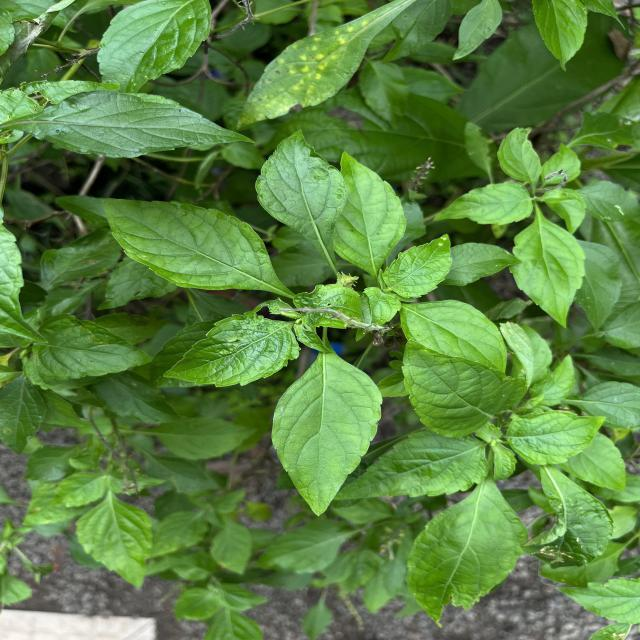Ocimum gratissimum: (235, 0, 418, 132), (268, 336, 386, 520), (100, 196, 296, 301), (402, 476, 532, 630), (0, 88, 259, 160), (252, 128, 349, 276), (399, 337, 532, 440), (160, 309, 304, 389), (94, 0, 215, 94), (332, 430, 491, 501), (506, 210, 590, 332), (334, 147, 408, 277), (398, 299, 509, 376), (503, 409, 608, 467)
